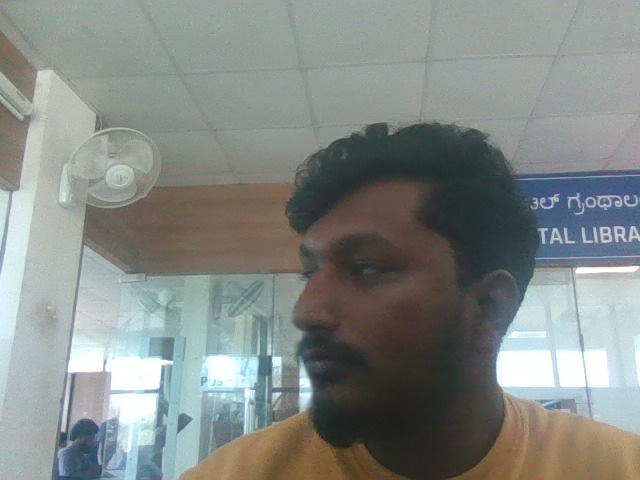real: (268, 102, 504, 436)
